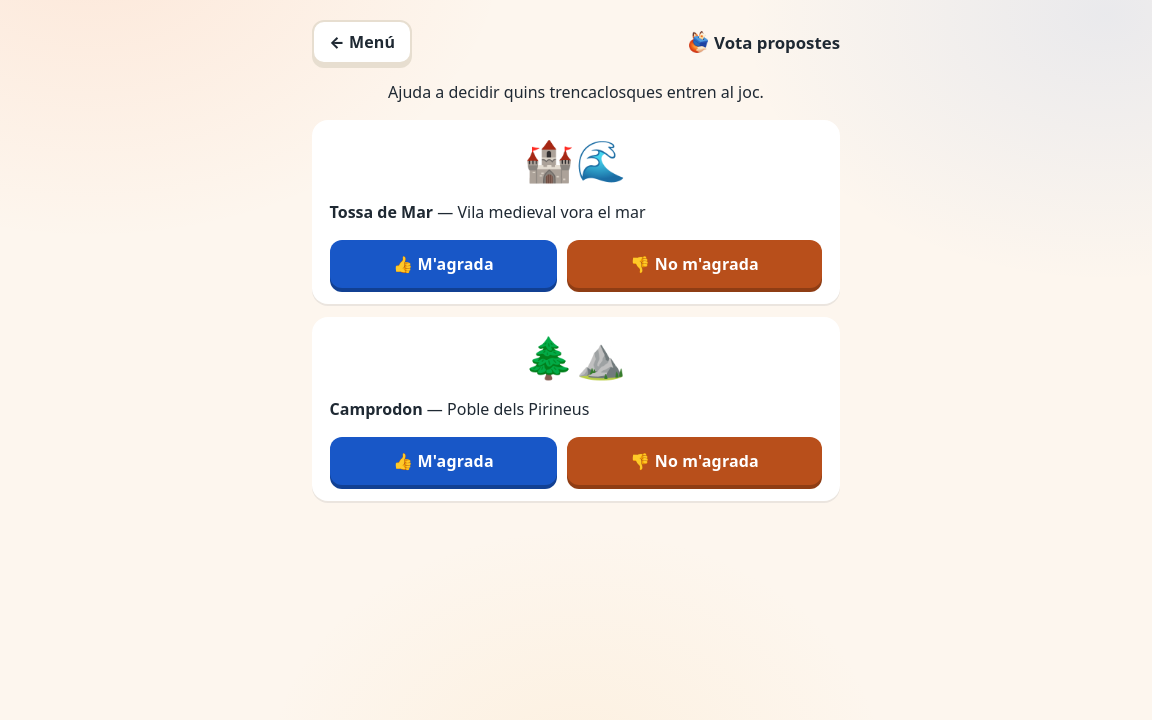
Test case: VoteScreen component › permet votar en contra i actualitza el recompte
expect the text "Camprodon" is shown: met, box [330,398,423,420]
Click the button "👎 No m'agrada" below "Camprodon".
click(695, 461)  # box [567,437,822,485]
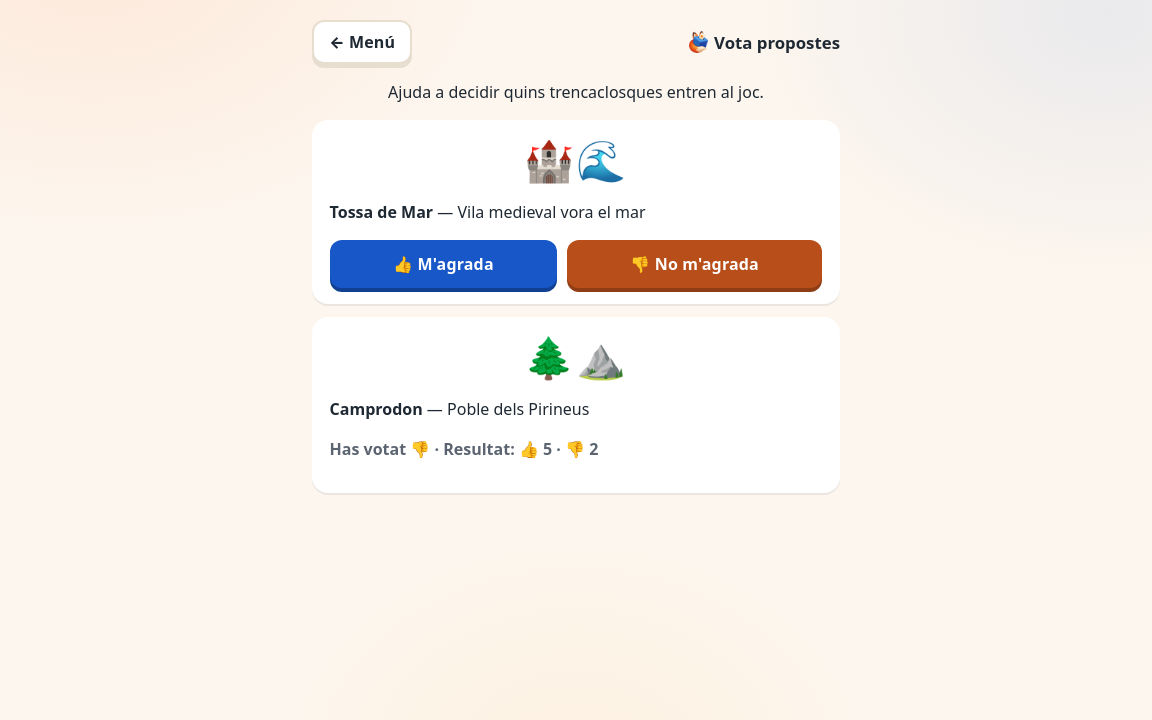
expect the text "Has votat 👎 · Resultat: 👍 5 · 👎 2" is shown: met, box [330,438,598,460]
